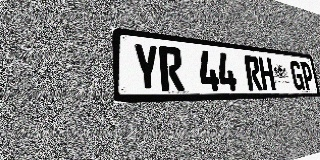4: (197, 50, 220, 91), (216, 52, 238, 91)
G: (289, 60, 305, 91)
H: (258, 57, 276, 91)
P: (300, 61, 315, 90)
R: (158, 46, 185, 91), (244, 55, 263, 91)
Y: (132, 43, 161, 92)
